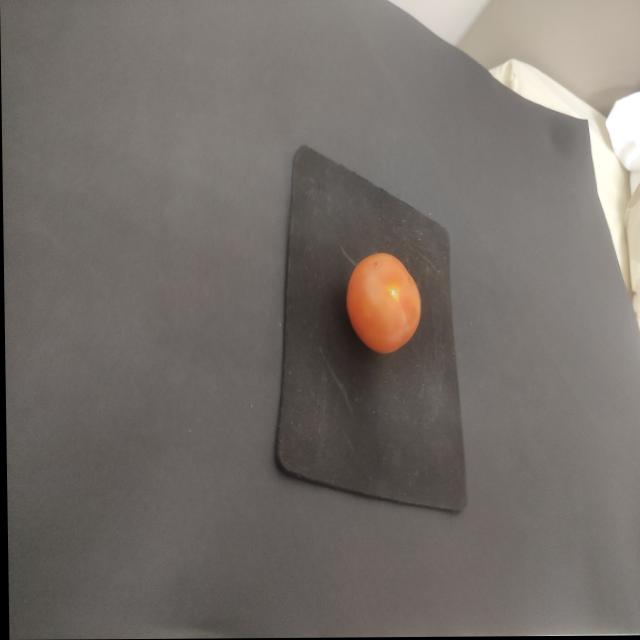sari: (335, 222, 429, 370)
